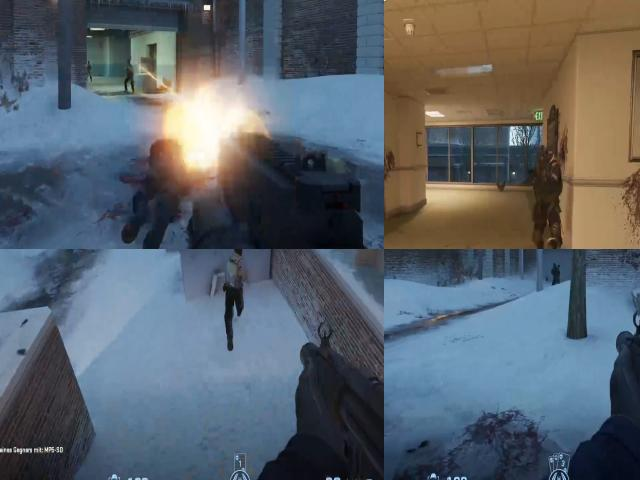CT: (525, 139, 566, 238), (551, 262, 561, 280)
CT-Head: (531, 144, 556, 175), (552, 262, 558, 271)
Dead: (120, 130, 186, 234)
T: (220, 249, 252, 305), (126, 59, 135, 90)
T-Head: (230, 249, 245, 267)
